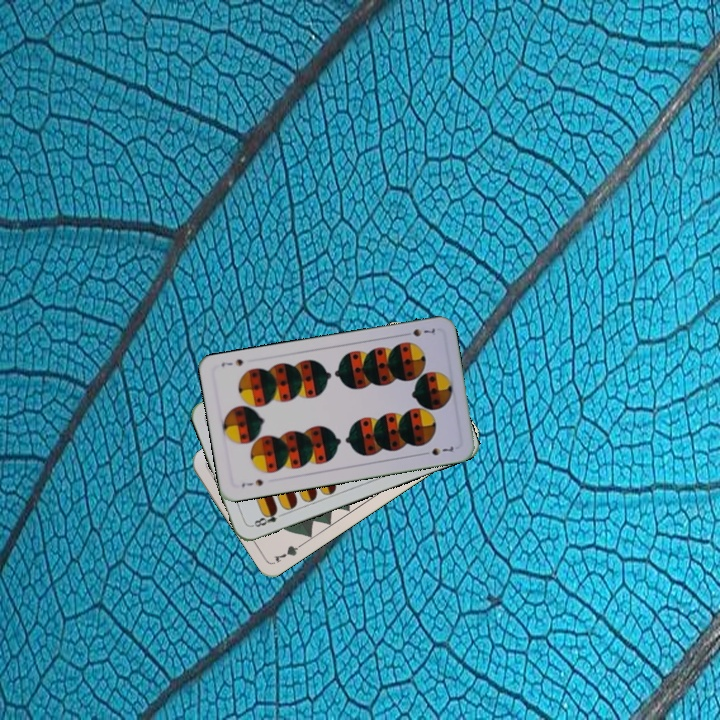E8: (248, 505, 287, 530)
G7: (270, 538, 308, 565)
S7: (399, 324, 438, 339), (237, 475, 266, 490)
